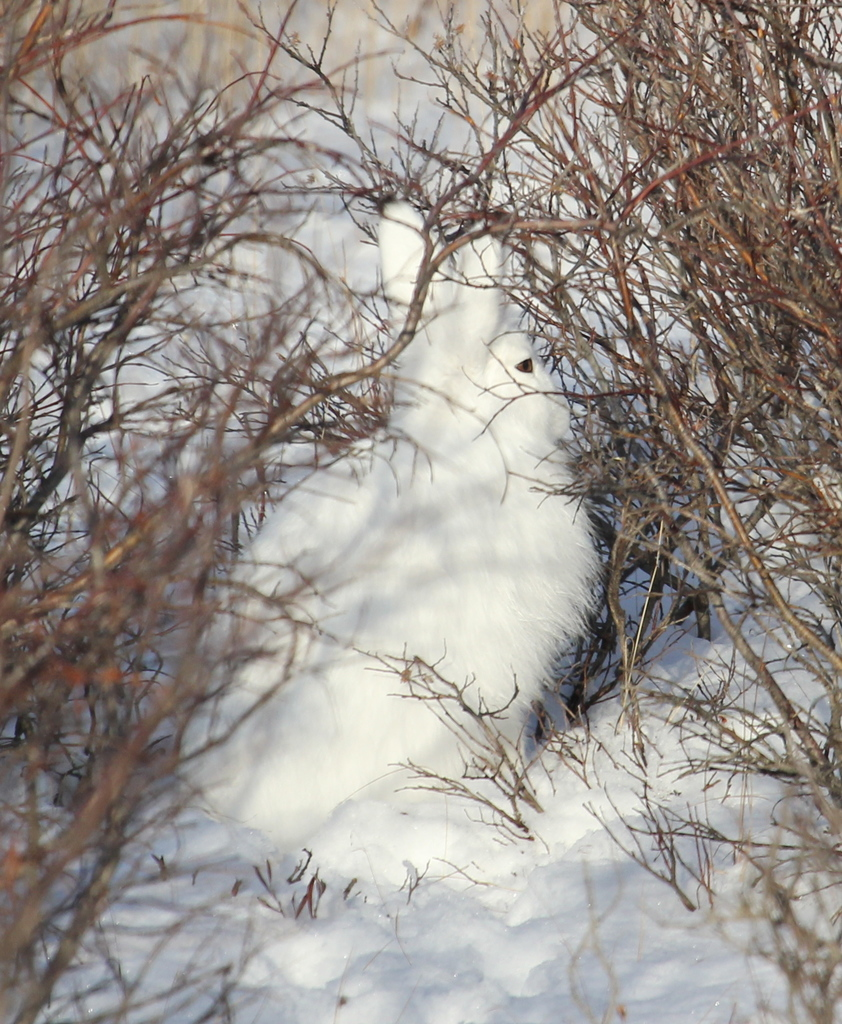Animal: (178, 195, 598, 881)
